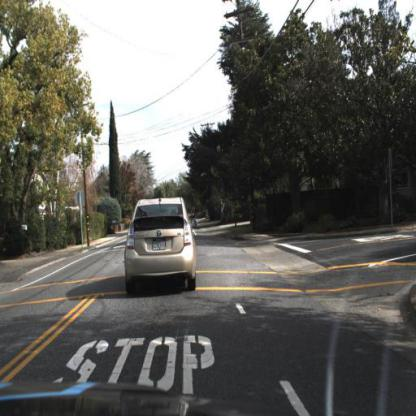car: (127, 192, 197, 293)
